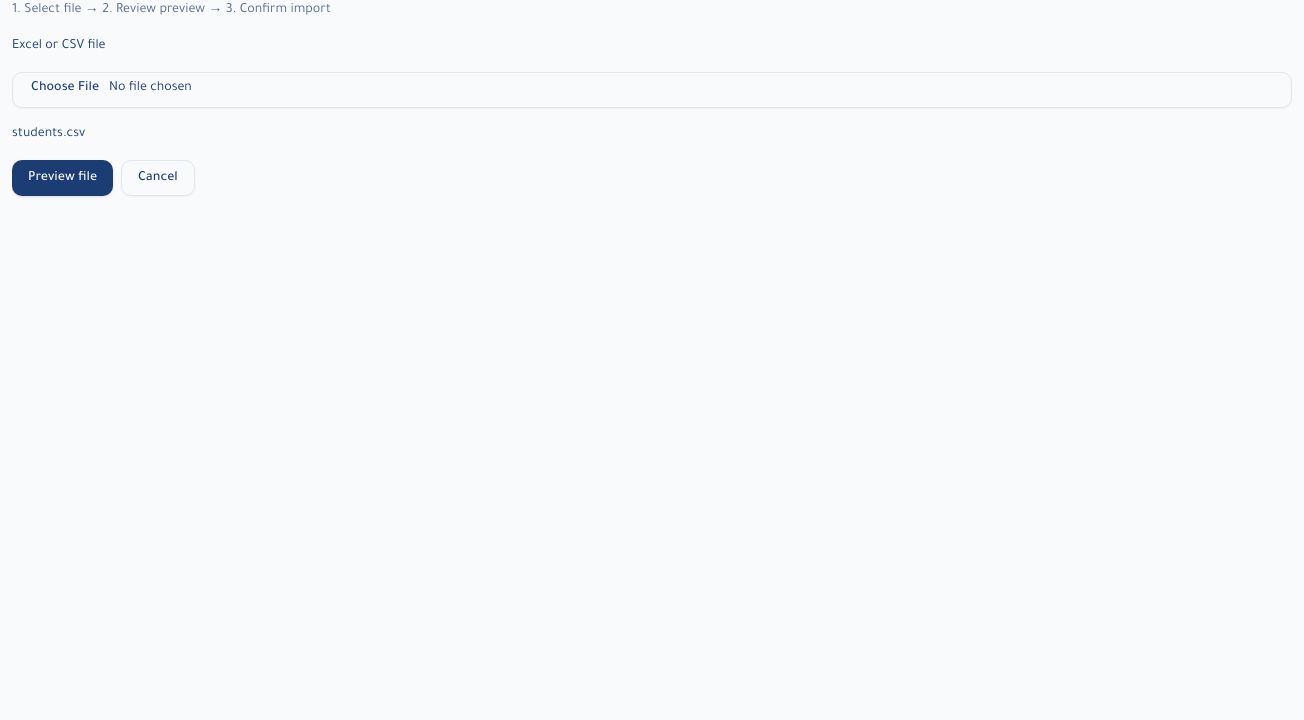
it: mandatory external import review › teacher conflicts block the teacher review endpoint
The width and height of the screenshot is (1304, 720).
Earlier steps of the test are not shown.
Click the button "Preview file": (63, 178) top-left (12, 160), bottom-right (113, 196)
(page scrolled)
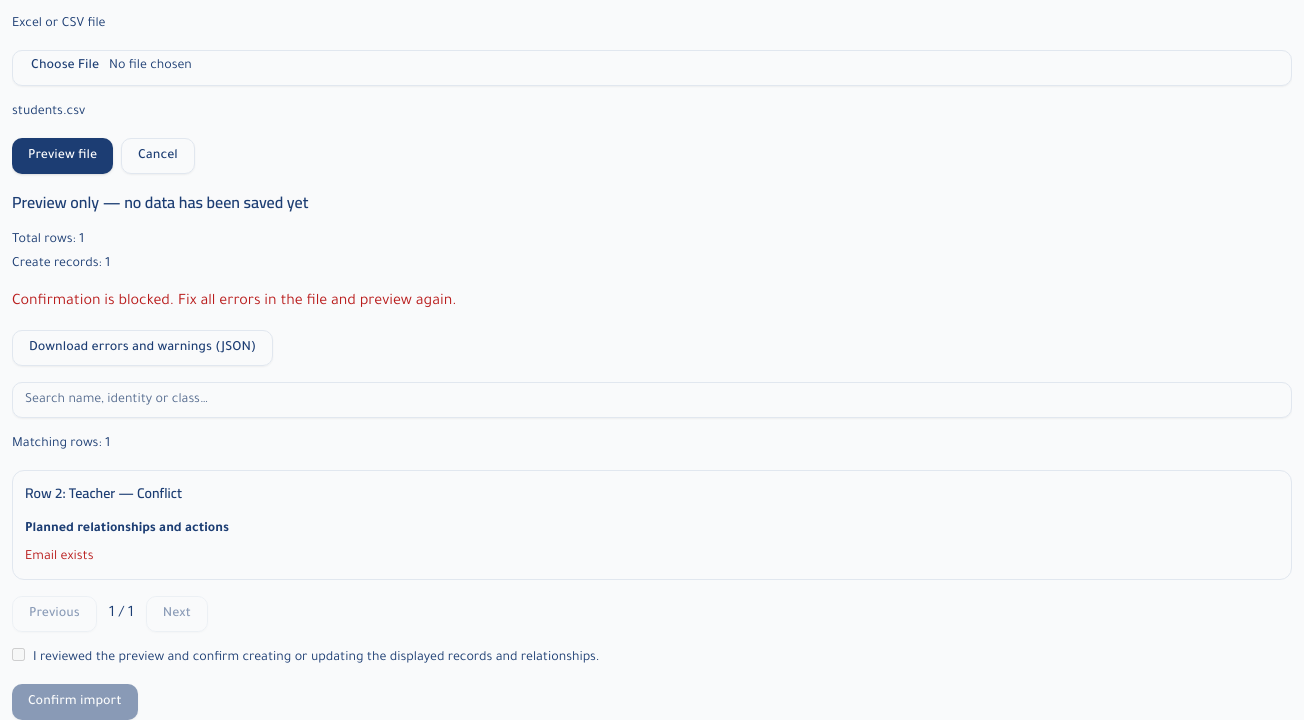
Result: the heading "Preview only — no data has been saved yet" is shown at top-left (12, 187), bottom-right (308, 217)
Result: the text "Email exists" is shown at top-left (25, 550), bottom-right (94, 564)
Result: the button "Confirm import" is disabled at top-left (12, 684), bottom-right (138, 719)
